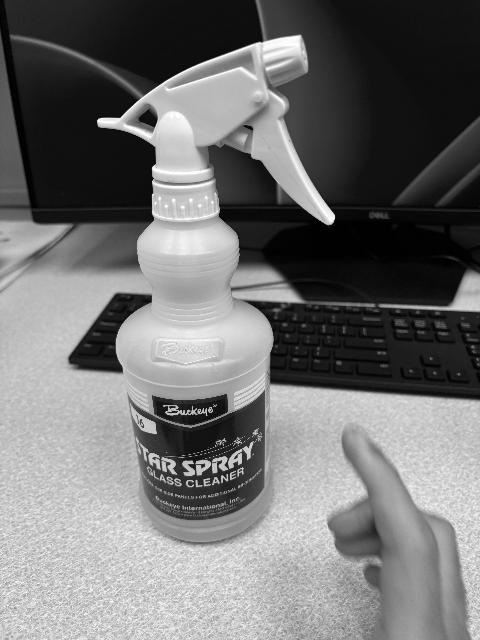StarSpray: (97, 37, 336, 548)
